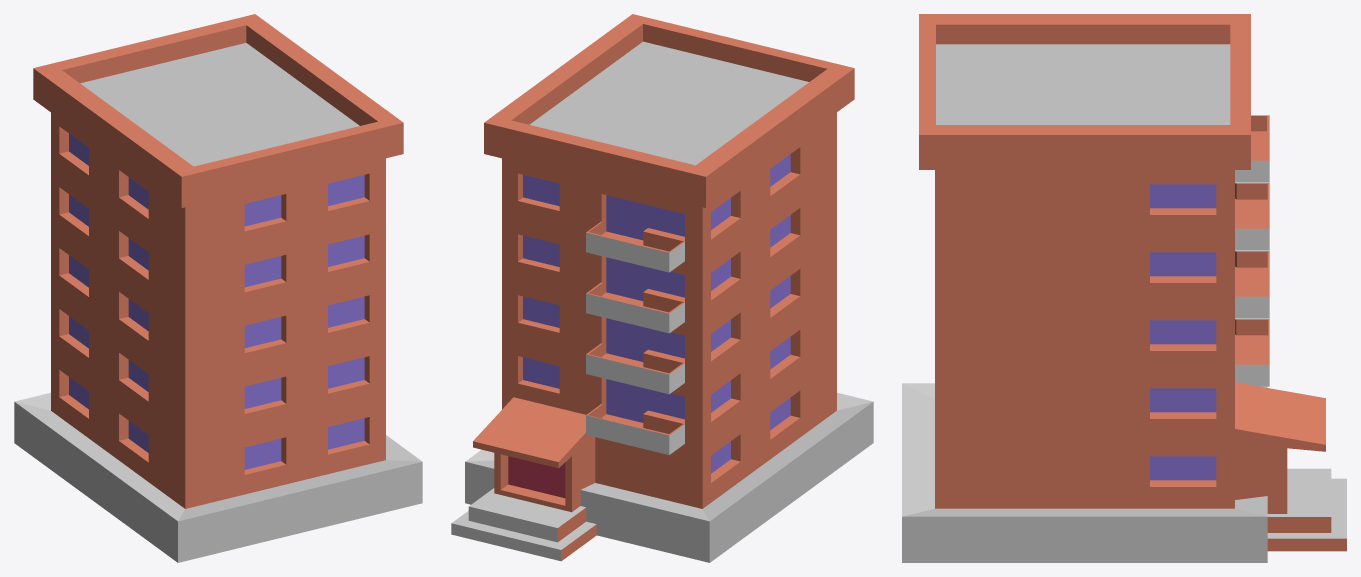
Rendered from house_cartoon_2.glb.
The picture shows the model from 3 angles, left to right: view 1: azimuth 30°, elevation 25°; view 2: azimuth 150°, elevation 25°; view 3: azimuth 270°, elevation 25°; orthographic projection. The views are drawn at different scales.
Visible parts, largest first — view 1: House_2_World ap_0; view 2: House_2_World ap_0; view 3: House_2_World ap_0.
Boxes of the visible parts, left/top/right/bottom form: House_2_World ap_0: left=14, top=14, right=422, bottom=562; House_2_World ap_0: left=451, top=14, right=873, bottom=562; House_2_World ap_0: left=902, top=14, right=1346, bottom=562.
Bounding box in the file's own units: 7.83 × 11.55 × 11.04.
